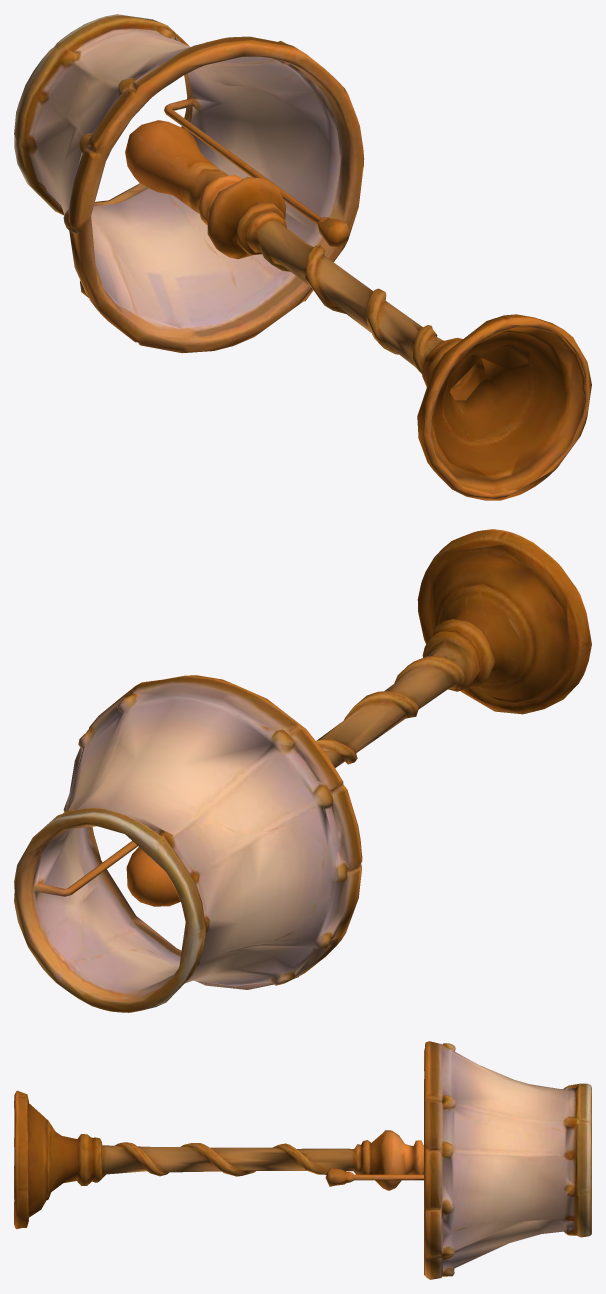
3 renders of one model, top to bottom at view 1: azimuth 30°, elevation 25°; view 2: azimuth 150°, elevation 25°; view 3: azimuth 270°, elevation 25°, orthographic. The views are drawn at different scales.
Visible parts, largest first — view 1: material; view 2: material; view 3: material.
Part boxes in pixels (box(x1,y1,x2,y2)): material: box(14, 14, 591, 500); material: box(14, 529, 591, 1012); material: box(14, 1041, 591, 1279).
Size of the model in its own units: 0.4101 by 0.4107 by 1.
1 material, 1 textured.
